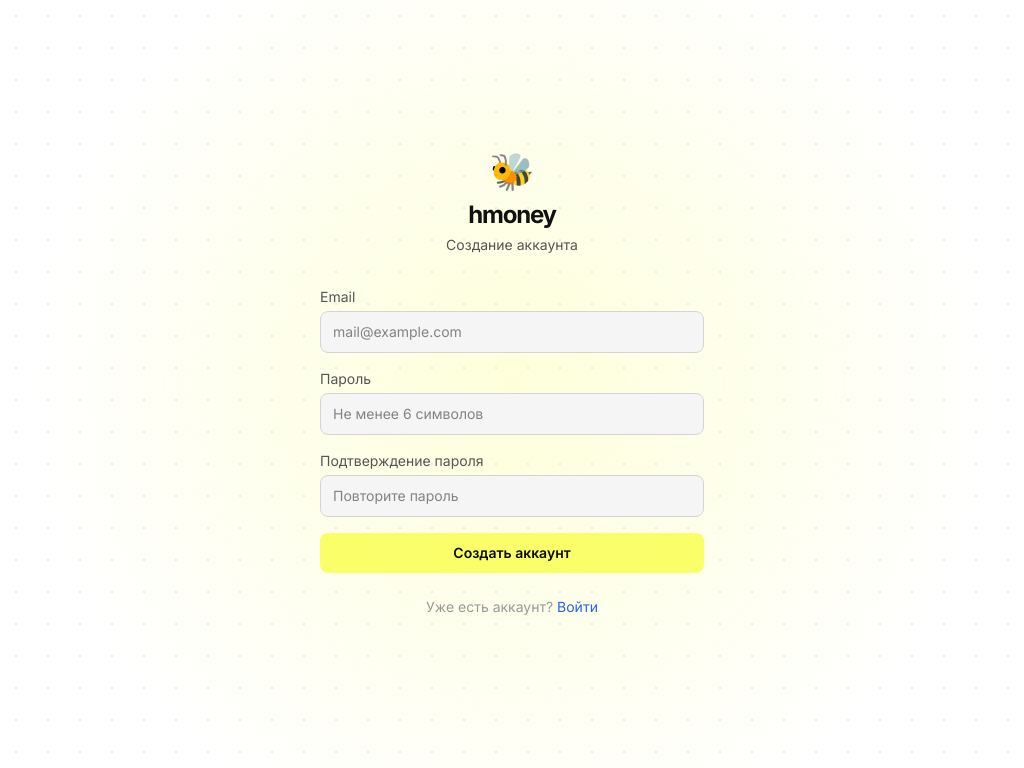
Scenario: RegisterPage › shows error when password is too short
The width and height of the screenshot is (1024, 768).
Type "test@test.com" into the field labelled "Email" at [512, 332], box [320, 311, 704, 353]
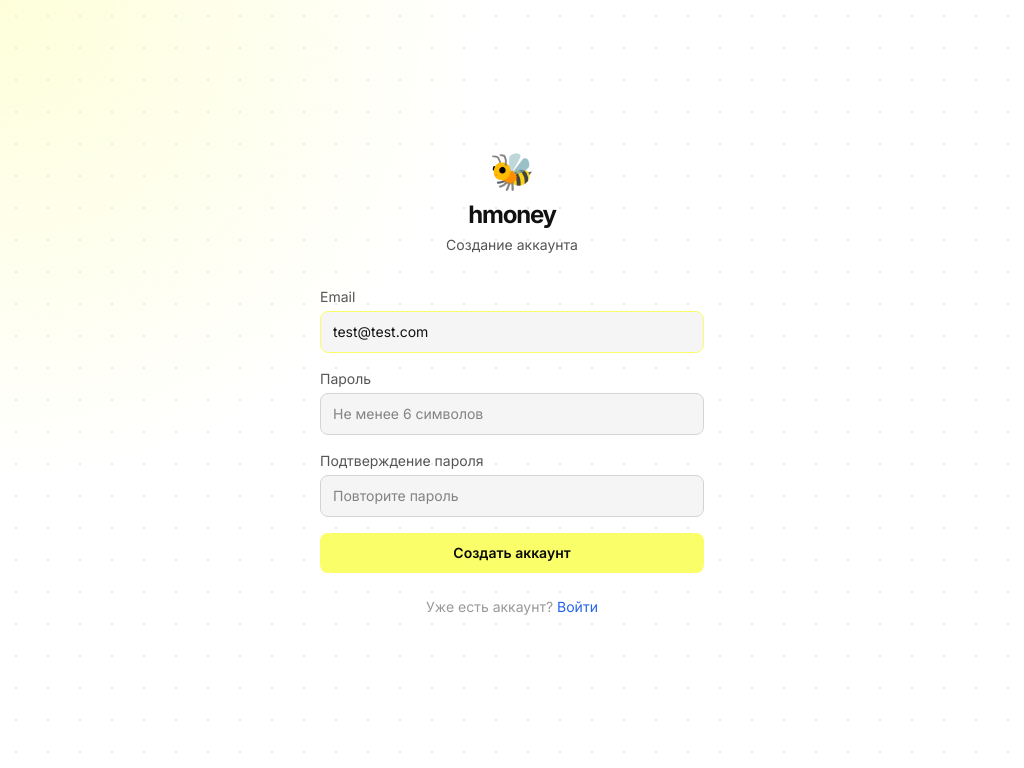
Type "12345" into the password field labelled "Пароль" at [512, 414], box [320, 393, 704, 435]
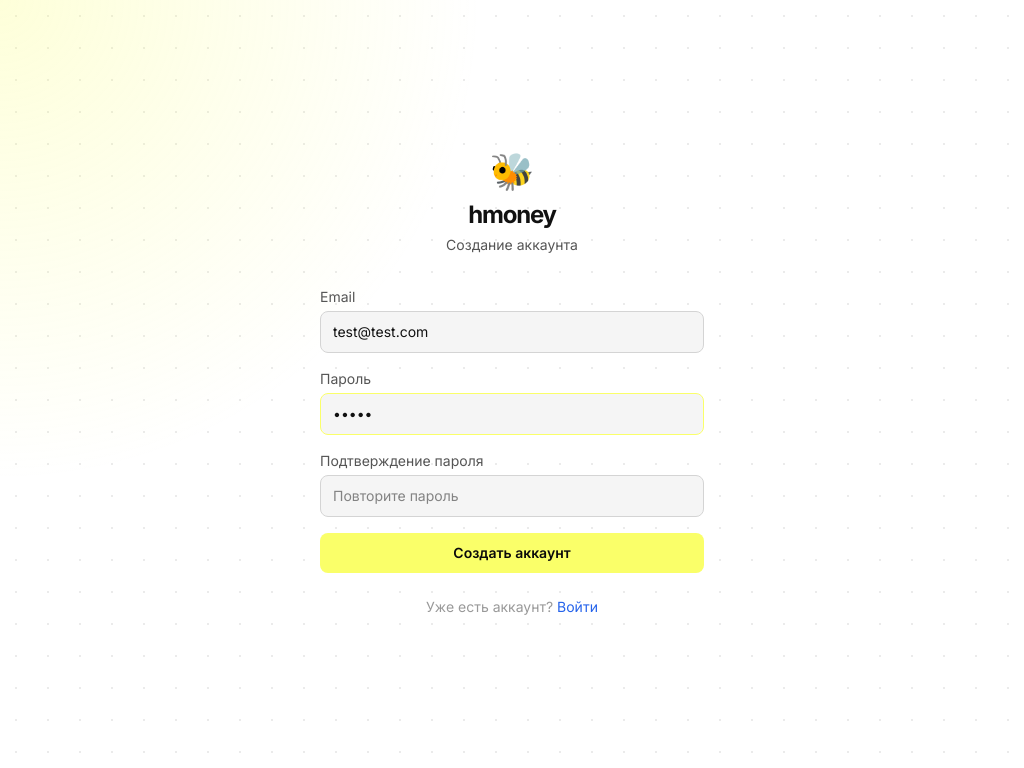
Type "12345" into the password field labelled "Подтверждение пароля" at [512, 496], box [320, 475, 704, 517]
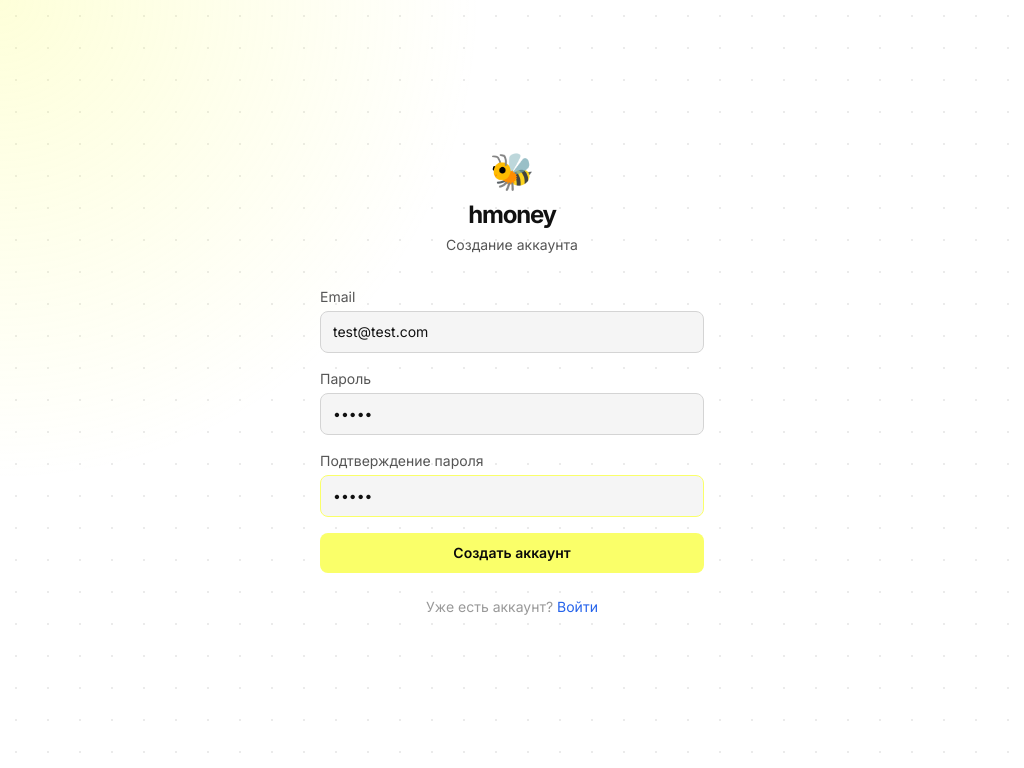
Click the button "Создать аккаунт" at [512, 553], box [320, 533, 704, 573]
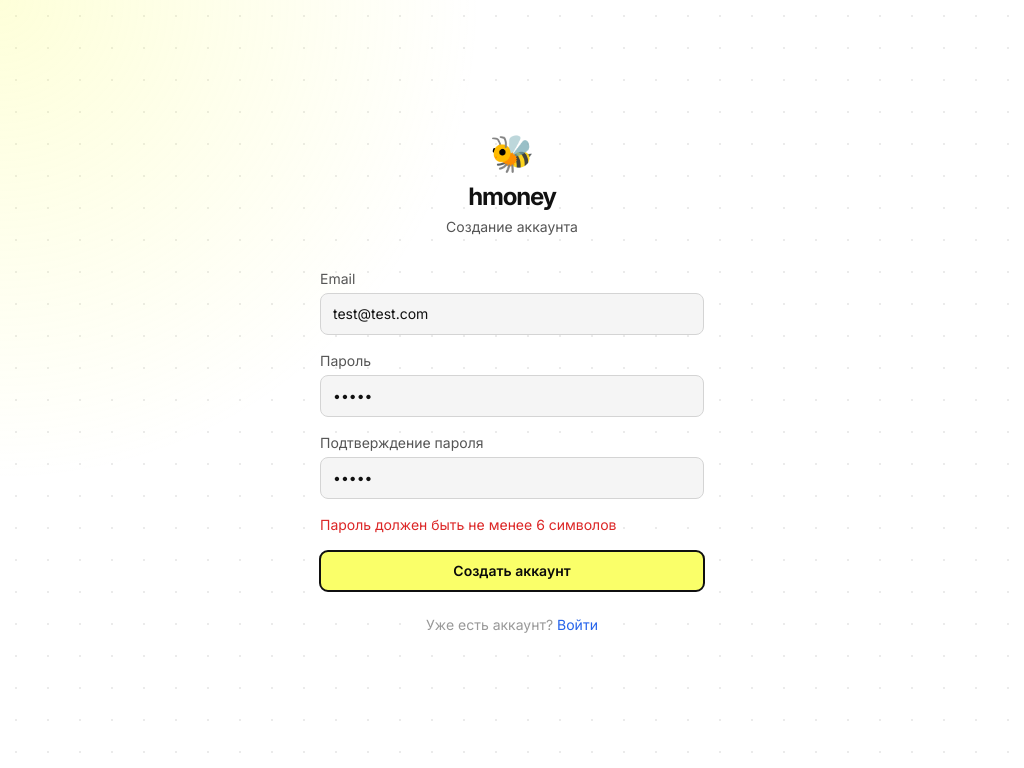
expect the text "Пароль должен быть не менее 6 символов" is shown: met, box [320, 516, 616, 533]
